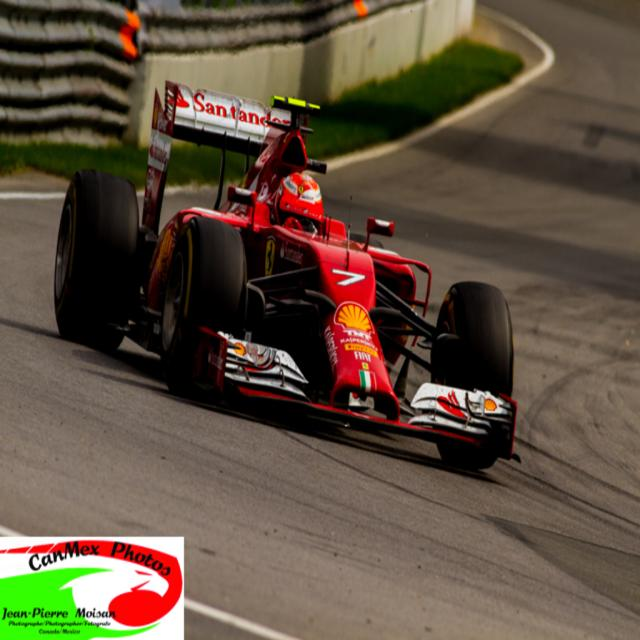car: (54, 79, 518, 474)
